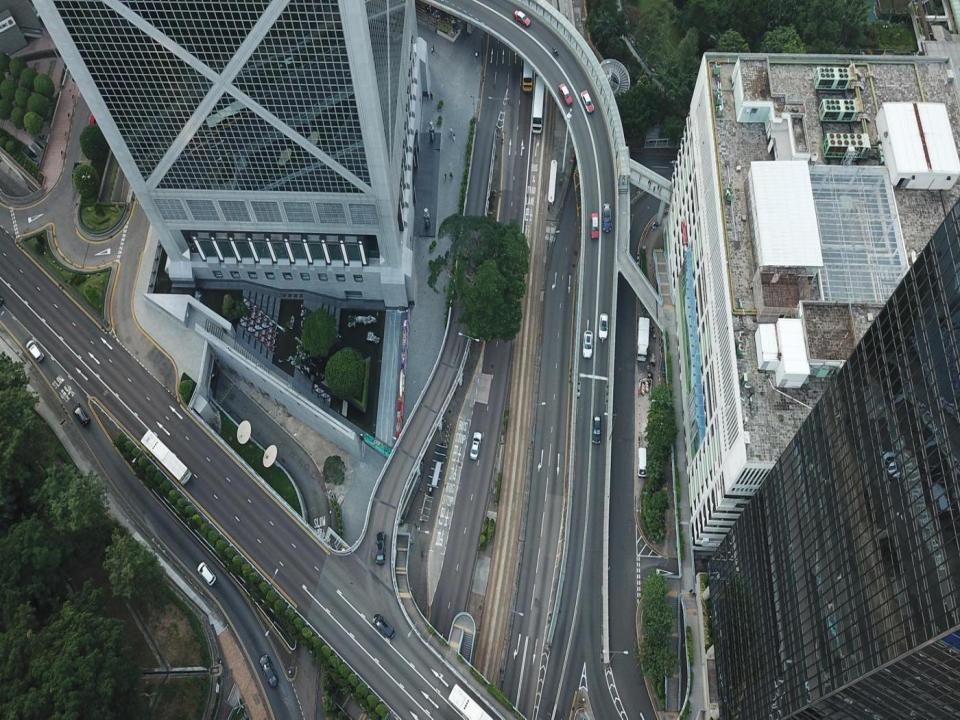bus: (142, 428, 192, 490), (444, 682, 502, 719), (532, 70, 546, 134), (521, 41, 536, 91)
car: (259, 654, 279, 688), (372, 613, 396, 641), (470, 430, 488, 462), (197, 560, 216, 589), (26, 336, 44, 366), (882, 448, 896, 482), (73, 403, 90, 428), (558, 83, 574, 109), (581, 87, 594, 118), (583, 328, 595, 361), (589, 211, 603, 239), (512, 9, 532, 28), (374, 530, 384, 564), (590, 416, 602, 443), (602, 202, 612, 232), (599, 314, 606, 344)
truck: (634, 312, 652, 364), (637, 447, 647, 477)
